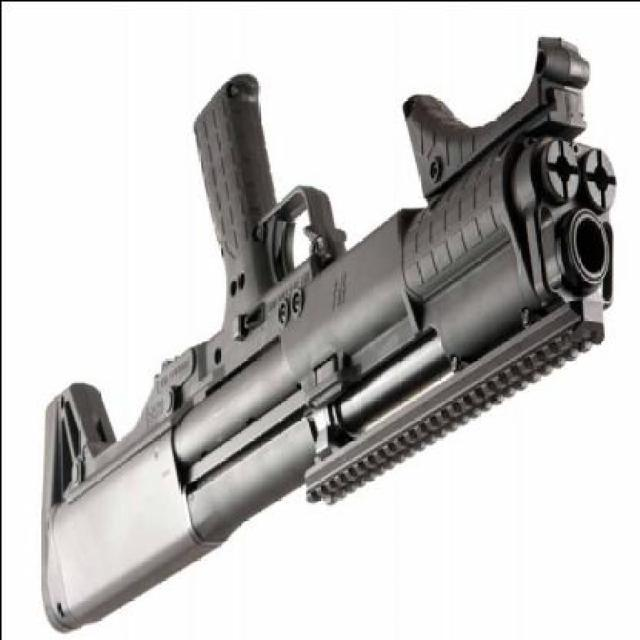weapon: (38, 33, 616, 632)
